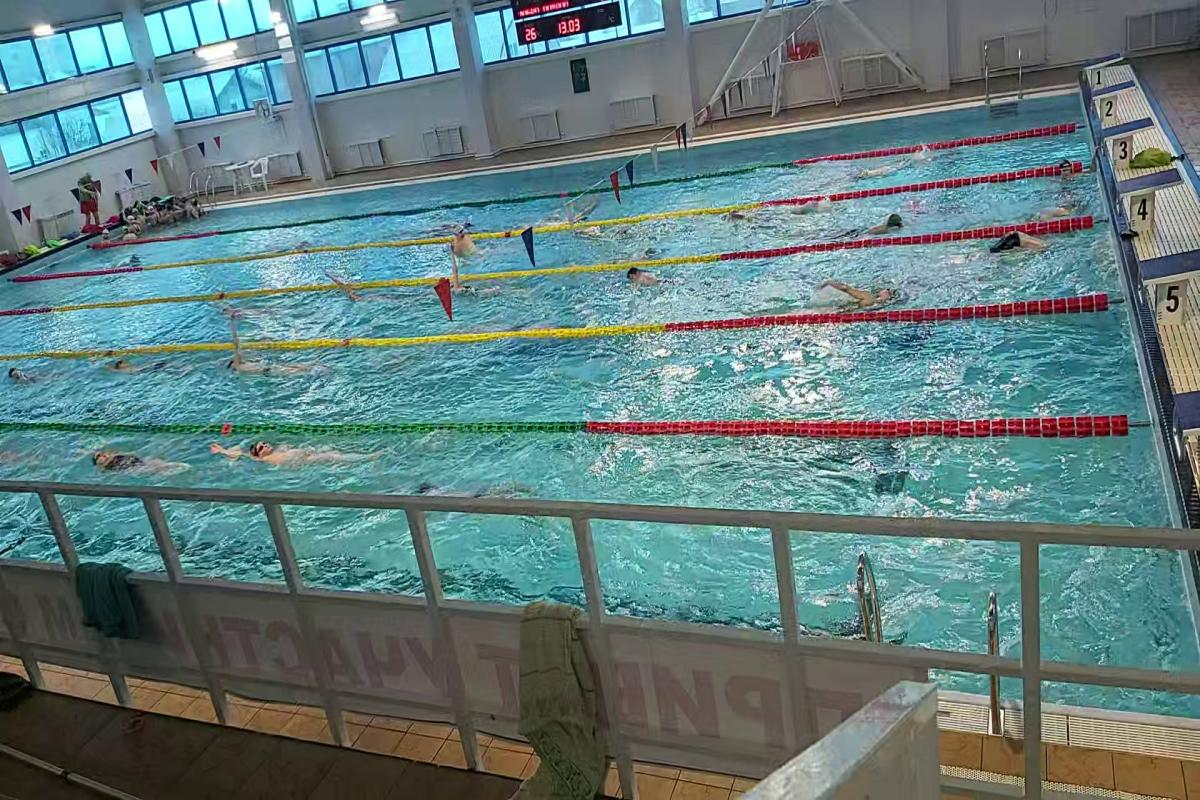swimmer: (203, 436, 385, 471), (76, 438, 194, 478), (803, 269, 911, 305), (221, 352, 336, 377), (331, 286, 420, 308), (607, 268, 677, 294), (97, 356, 178, 378), (201, 300, 287, 319), (442, 223, 484, 257), (822, 220, 916, 232)
